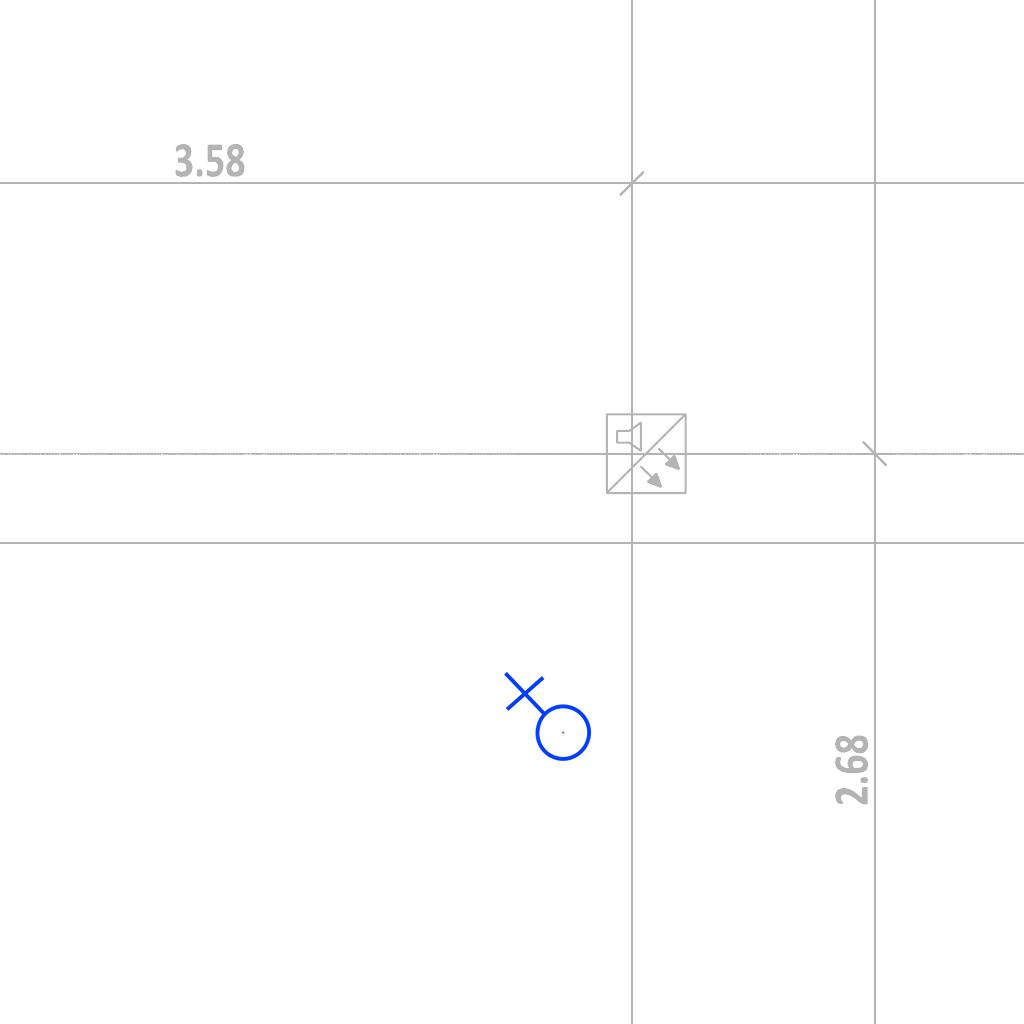Elektroanschluss_allgemein_230V_Geraeteanschlussdose_230V: (499, 671, 593, 770)
